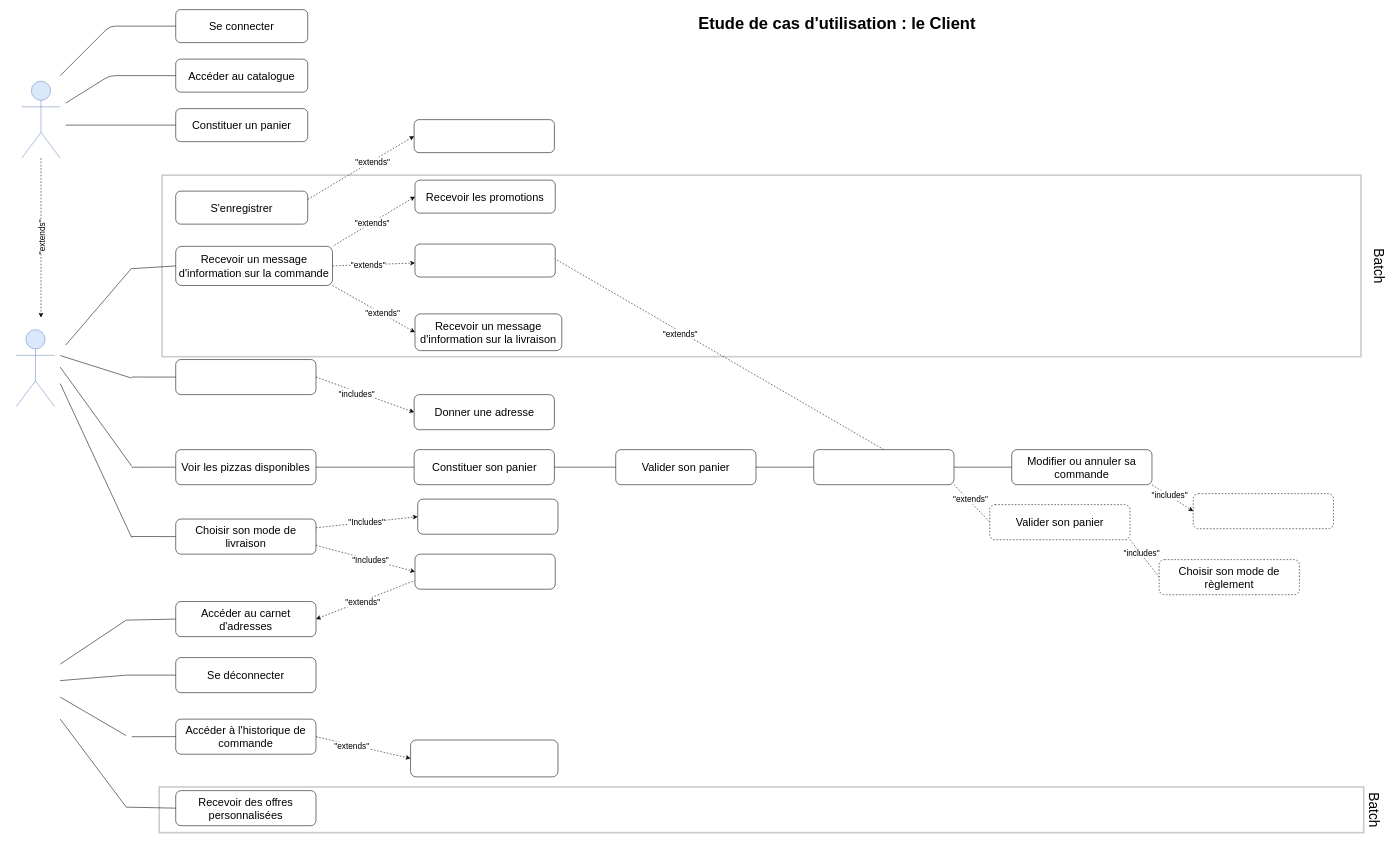
Some shapes in this 1398 by 843 pixel diagram are drawn without their labels. The shapes that lost their labels are listed below. From the top down, each one's centre as x and y in pixels, then its label:
At (40,119): "VISITEUR".
At (484,136): "Renseigner un nom".
At (484,260): "Recevoir un message de validation".
At (35,368): "CLIENT".
At (245,377): "Choisir un restaurant".
At (883,467): "Saisir des moyens de contact".
At (487,516): "Se rendre sur place".
At (1263,511): "Peut suivre l'état de sa commande".
At (484,571): "Être livré".
At (484,758): "Accéder aux produits favoris".
